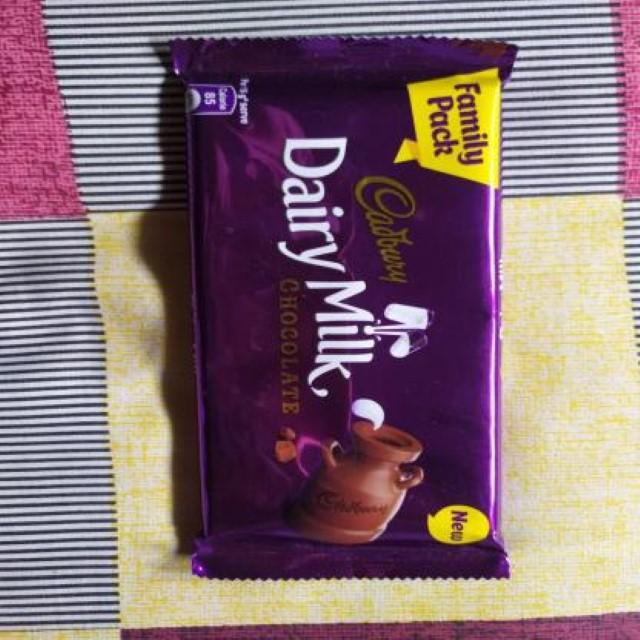cadbury_chocolate: (164, 57, 518, 558)
